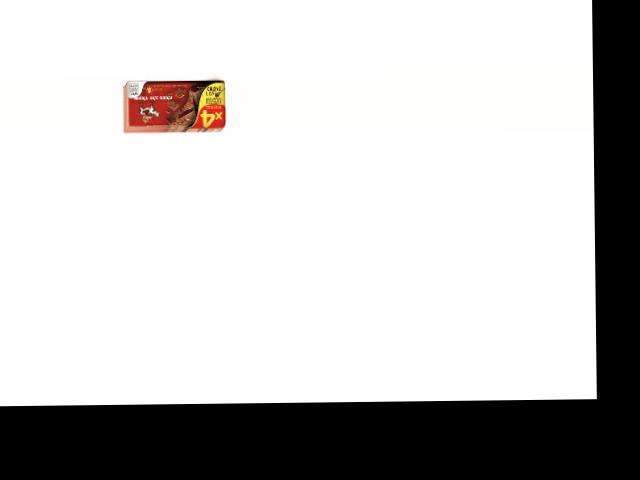chocolate: (124, 77, 227, 132)
